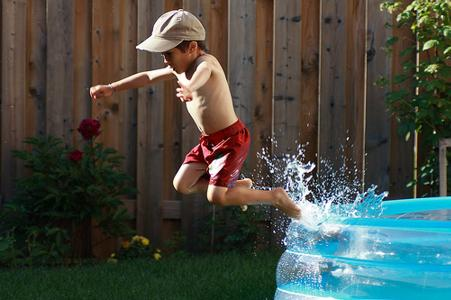person: (89, 11, 305, 226)
